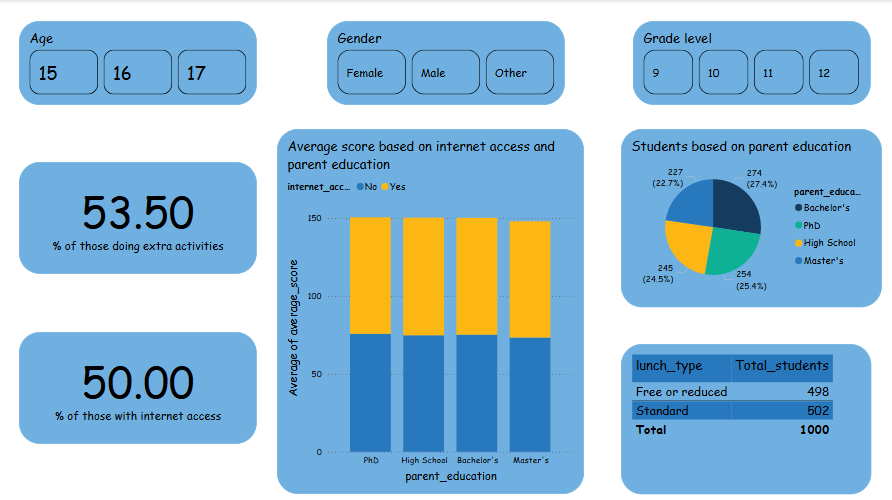

The dashboard page shown, as its layout file describes it:
{"tool":"powerbi","page":{"name":"Demographics and Behavior","canvas":[1280,720],"ordinal":2},"visuals":[{"type":"card","fields":{"Values":["student_info.cocurricular"]},"box":[30,233.1,340.4,160.2],"z":0},{"type":"card","fields":{"Values":["student_info.% of those with internet access"]},"box":[30,476.2,340.4,160.2],"z":1000},{"type":"advancedSlicerVisual","title":"Age","fields":{"Values":["student_info.age"]},"box":[30,31.5,340,120.1],"z":2000},{"type":"advancedSlicerVisual","title":"Gender","fields":{"Values":["student_info.gender"]},"box":[470.5,31.5,340.4,120.1],"z":3000},{"type":"advancedSlicerVisual","title":"Grade level","fields":{"Values":["student_info.grade_level"]},"box":[908.2,31.5,340.4,120.1],"z":4000},{"type":"tableEx","fields":{"Values":["student_info.lunch_type","student_info.Total_students"]},"box":[891,493.4,357.5,214.5],"z":5000},{"type":"lineStackedColumnComboChart","title":"Average score based on internet access  and parent education","fields":{"Category":["student_info.parent_education"],"Series":["student_info.internet_access"],"Y":["Avg(student_info.average_score)"]},"box":[399,185.9,439.1,522],"z":6000},{"type":"pieChart","title":"Students based on parent education","fields":{"Category":["student_info.parent_education"],"Y":["student_info.Total_students"]},"box":[891,185.9,373.3,254.6],"z":7000}]}

Visuals, with their boxes in screenshot pixels (x1, y1, x2, y2), scaled from the page's 1280x720 canvas onto the 892x500 screenshot:
card - student_info.cocurricular: (x1=21, y1=162, x2=258, y2=273)
card - student_info.% of those with internet access: (x1=21, y1=331, x2=258, y2=442)
"Age" advancedSlicerVisual: (x1=21, y1=22, x2=258, y2=105)
"Gender" advancedSlicerVisual: (x1=328, y1=22, x2=565, y2=105)
"Grade level" advancedSlicerVisual: (x1=633, y1=22, x2=870, y2=105)
tableEx - student_info.lunch_type x student_info.Total_students: (x1=621, y1=343, x2=870, y2=492)
"Average score based on internet access  and parent education" lineStackedColumnComboChart: (x1=278, y1=129, x2=584, y2=492)
"Students based on parent education" pieChart: (x1=621, y1=129, x2=881, y2=306)
